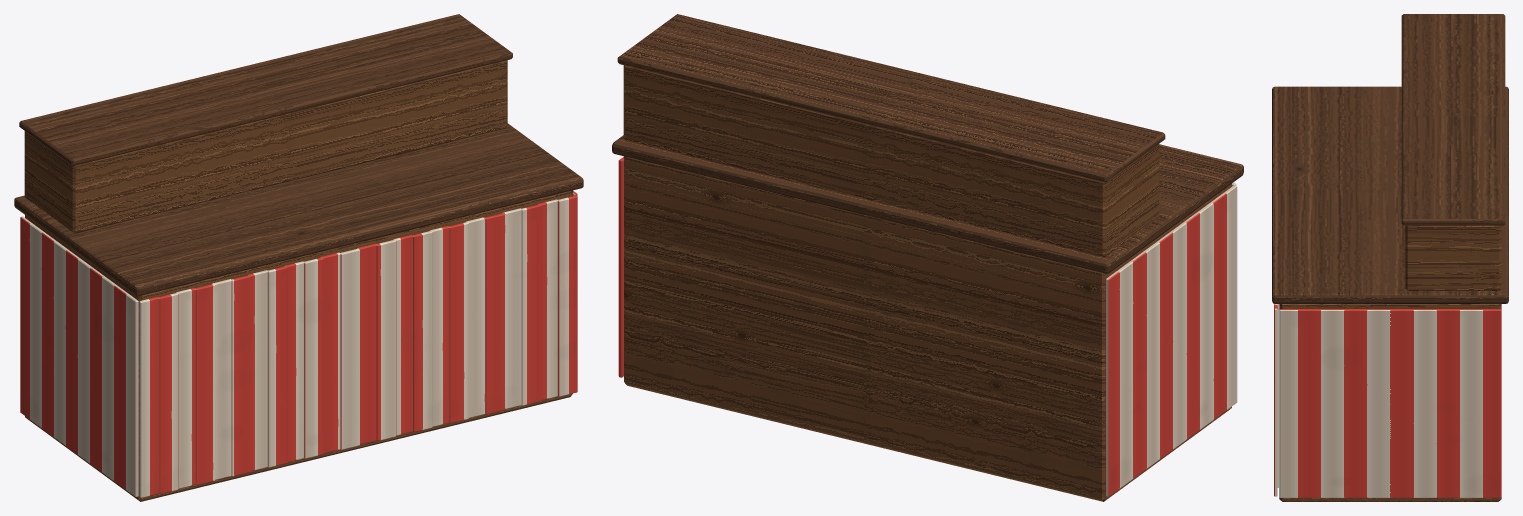
File: mk_island.glb
3 views of the same model, side by side, from view 1: azimuth 30°, elevation 25°; view 2: azimuth 150°, elevation 25°; view 3: azimuth 270°, elevation 25° (orthographic). The views are drawn at different scales.
Parts seen in each view (by area): view 1: p; view 2: p; view 3: p.
Boxes of the visible parts, x1,y1,x2,y2 form: p: [14, 14, 583, 501]; p: [612, 14, 1243, 501]; p: [1272, 14, 1508, 501].
Size of the model in its own units: 1.34 by 0.85 by 0.64.
3 materials, 3 textured.
